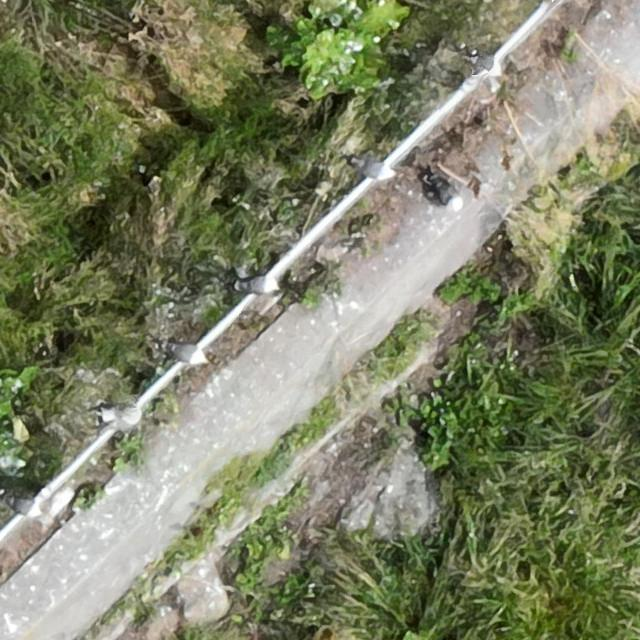umineko: (430, 173, 464, 211), (352, 158, 394, 179), (168, 343, 206, 363), (471, 54, 498, 76), (108, 408, 142, 425), (7, 497, 39, 515), (235, 278, 276, 292)
